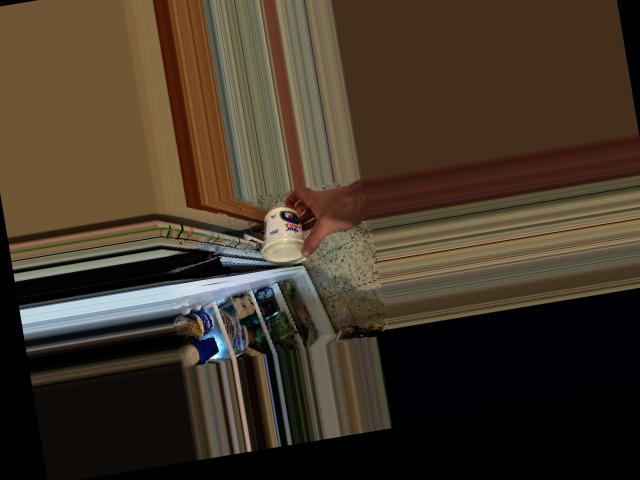cotage: (257, 204, 308, 267)
